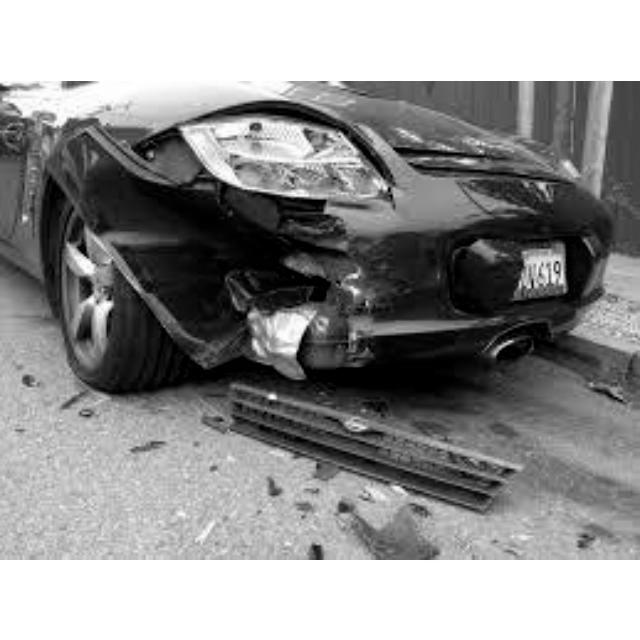Headlight-damage: (208, 97, 390, 213)
front-bumper-dent: (176, 244, 432, 347)
